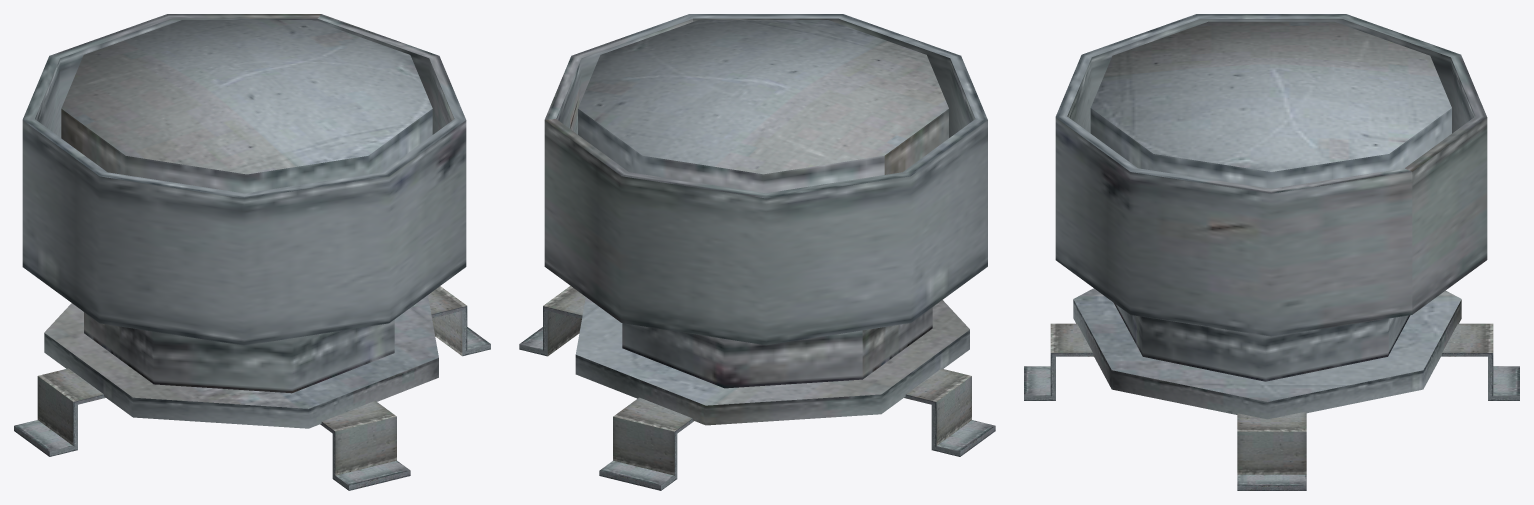
The model's file is Roof_air_vent.fbx.
3 renders of one model, left to right at view 1: azimuth 30°, elevation 25°; view 2: azimuth 150°, elevation 25°; view 3: azimuth 270°, elevation 25°, orthographic. The views are drawn at different scales.
Visible parts, largest first — view 1: Roof_air_vent; view 2: Roof_air_vent; view 3: Roof_air_vent.
Part boxes in pixels (x1,y1,x2,y2): Roof_air_vent: (14,14,490,490); Roof_air_vent: (519,14,995,490); Roof_air_vent: (1024,14,1519,490).
Size of the model in its own units: 115 by 77.89 by 115.
